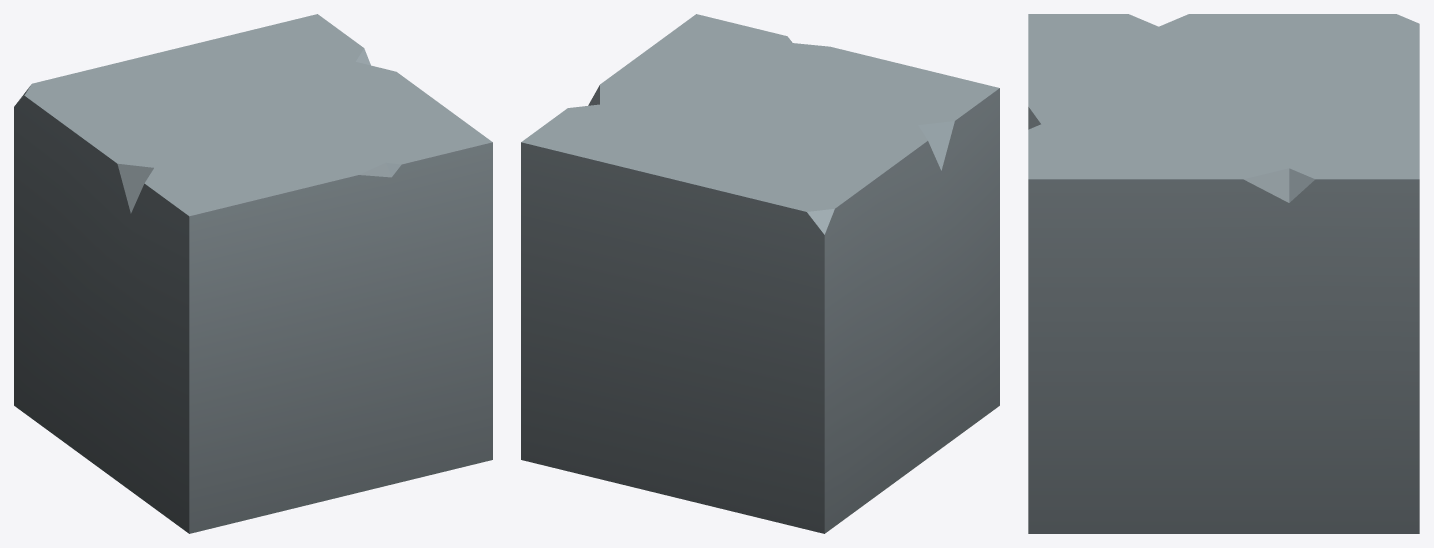
The model's file is block_A.gltf.glb.
3 views of the same model, side by side, from view 1: azimuth 30°, elevation 25°; view 2: azimuth 150°, elevation 25°; view 3: azimuth 270°, elevation 25° (orthographic). The views are drawn at different scales.
Parts seen in each view (by area): view 1: block_A; view 2: block_A; view 3: block_A.
Part boxes in pixels (x1=…): block_A: x1=14, y1=14, x2=492, y2=533; block_A: x1=521, y1=14, x2=999, y2=533; block_A: x1=1028, y1=14, x2=1419, y2=533.
Size of the model in its own units: 2 by 2 by 2.
1 material, 1 textured.
